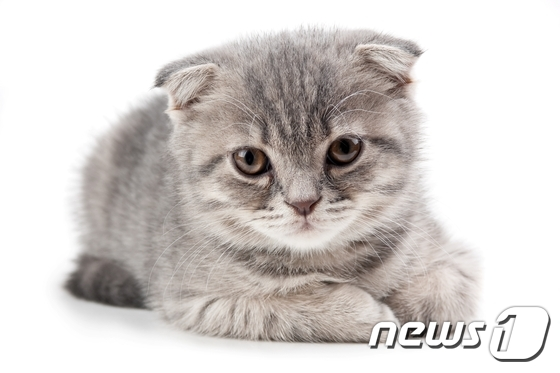cat: (55, 22, 491, 356)
cat-face: (153, 28, 432, 268)
